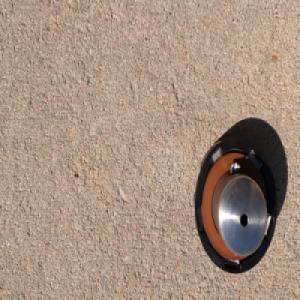FuelCap: (192, 133, 278, 275)
